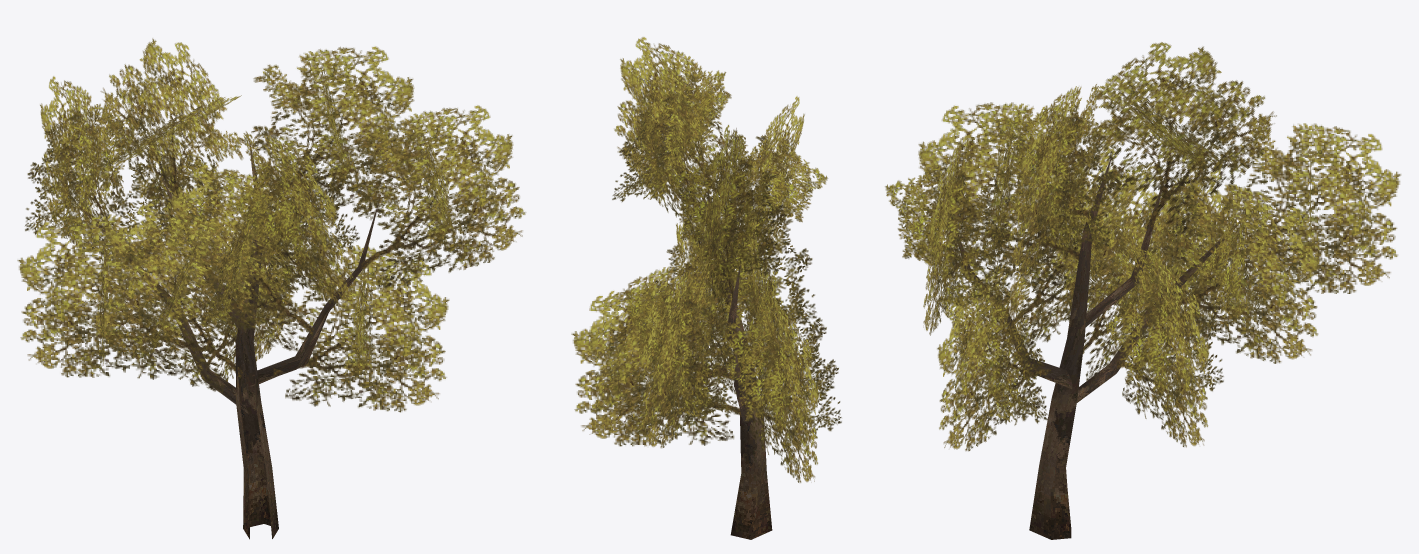
File: stage-maya-p4-85.glb
3 renders of one model, left to right at view 1: azimuth 30°, elevation 25°; view 2: azimuth 150°, elevation 25°; view 3: azimuth 270°, elevation 25°, orthographic. The views are drawn at different scales.
Bounding box in the file's own units: 20.62 × 25.69 × 24.57.
3 materials, 3 textured.
